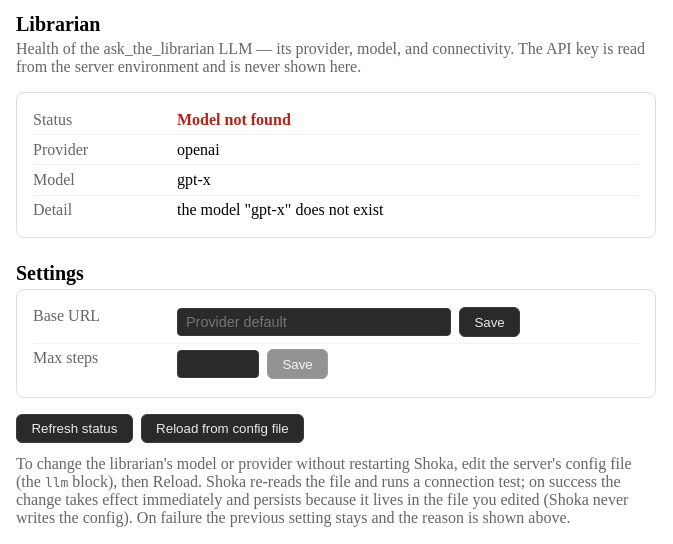
Test: LibrarianStatusPage › re-runs the check when Refresh is clicked and shows the new status
Expected: the text with test id "librarian-kind" reads "Model not found", [177,111,291,128]
Expected: the text with test id "librarian-detail" shows "does not exist", [177,201,383,218]
Click the button with test id "librarian-refresh" at coordinates (74, 429), box [16,414,133,444]
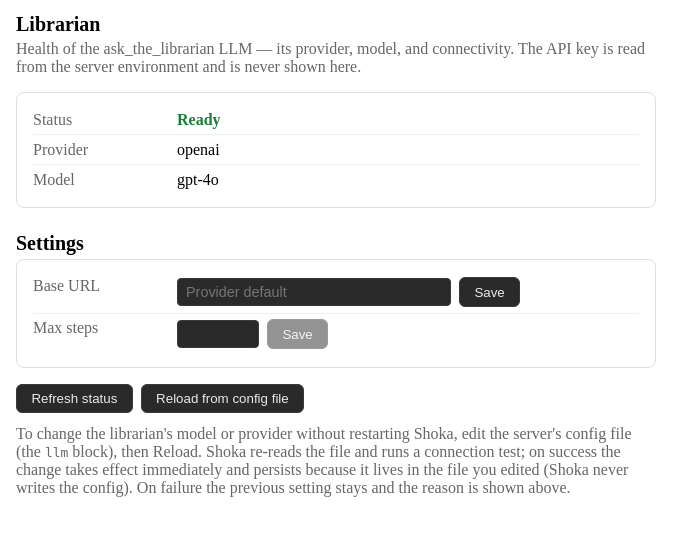
Expected: the text with test id "librarian-kind" reads "Ready", [177,111,221,128]
